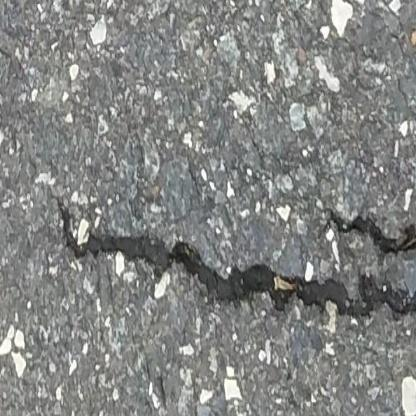Cracks: (53, 197, 416, 323)
